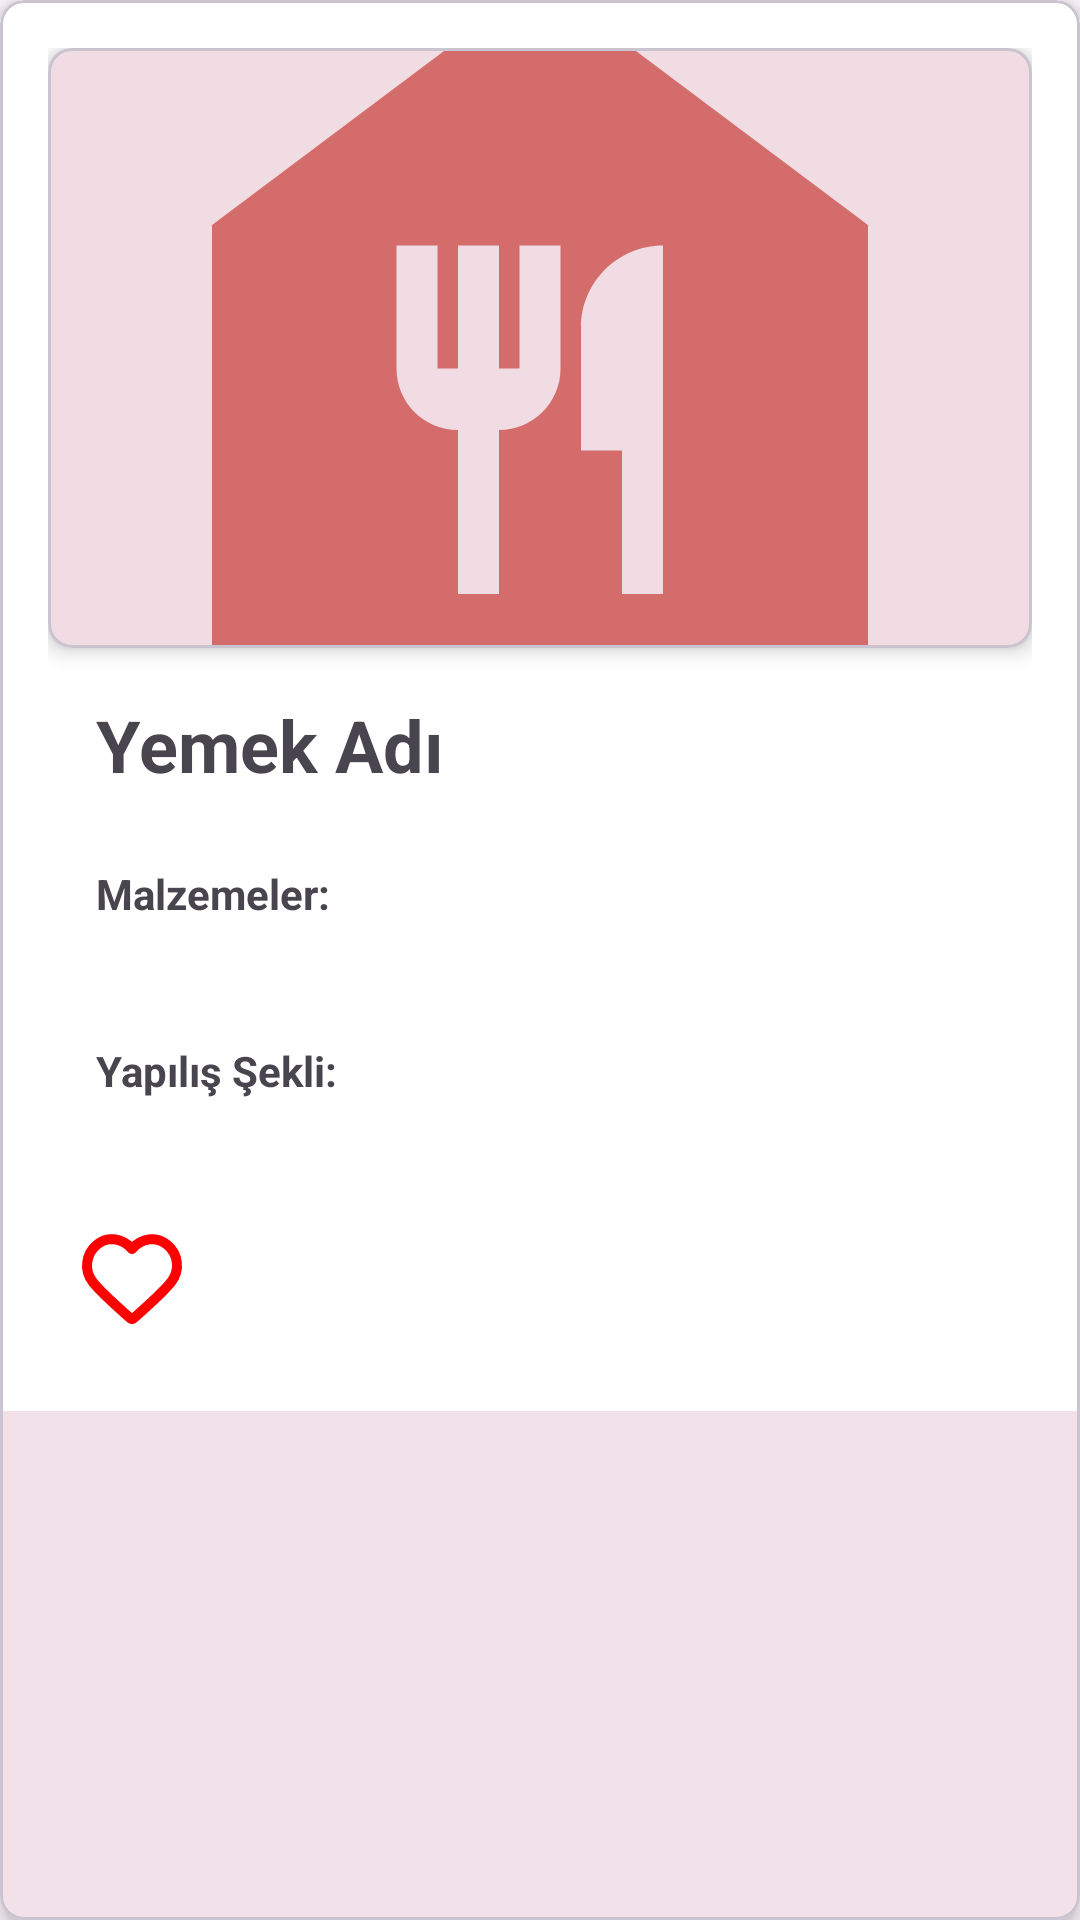

Locate icon controls on the screen. Image size 1080 x 1920, boxes as (x1, y1, x2, y2).
heart: (82, 1234, 182, 1324)
